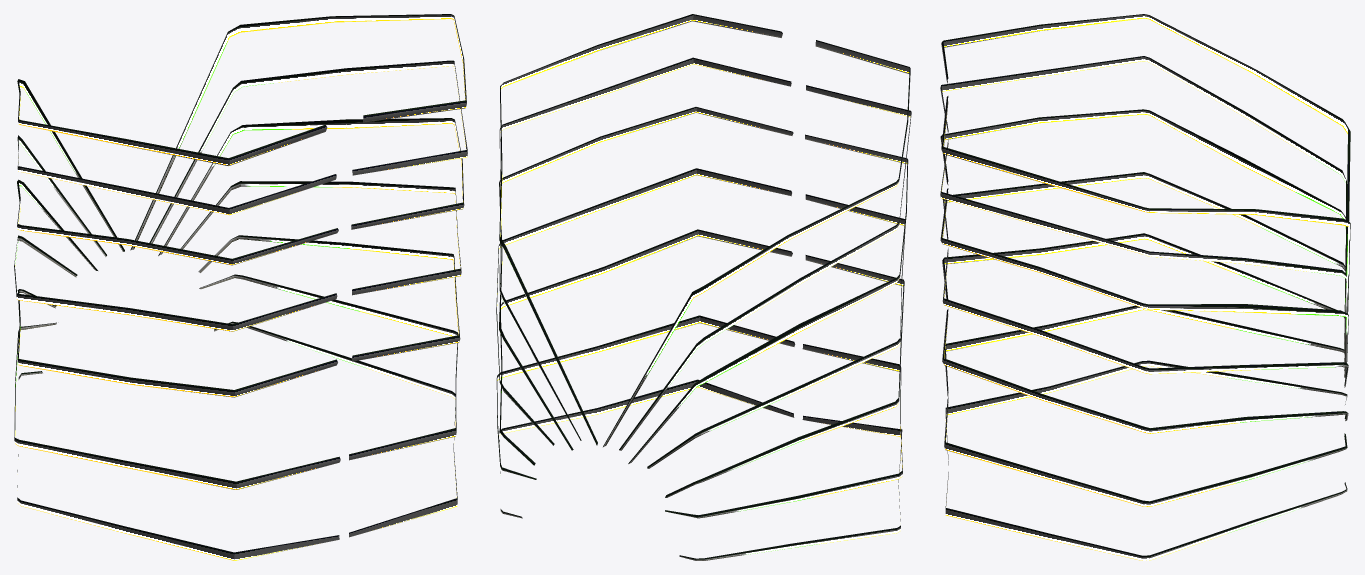
Rendered from elevator_effect.fbx.
3 views of the same model, side by side, from view 1: azimuth 30°, elevation 25°; view 2: azimuth 150°, elevation 25°; view 3: azimuth 270°, elevation 25° (orthographic). The views are drawn at different scales.
Visible parts, largest first — view 1: polySurface58; view 2: polySurface58; view 3: polySurface58.
Part boxes in pixels (<box>): polySurface58: <box>14,14,467,560</box>; polySurface58: <box>496,14,911,560</box>; polySurface58: <box>940,14,1350,560</box>.
Bounding box in the file's own units: 653 × 593 × 574.
1 material, 1 textured.
